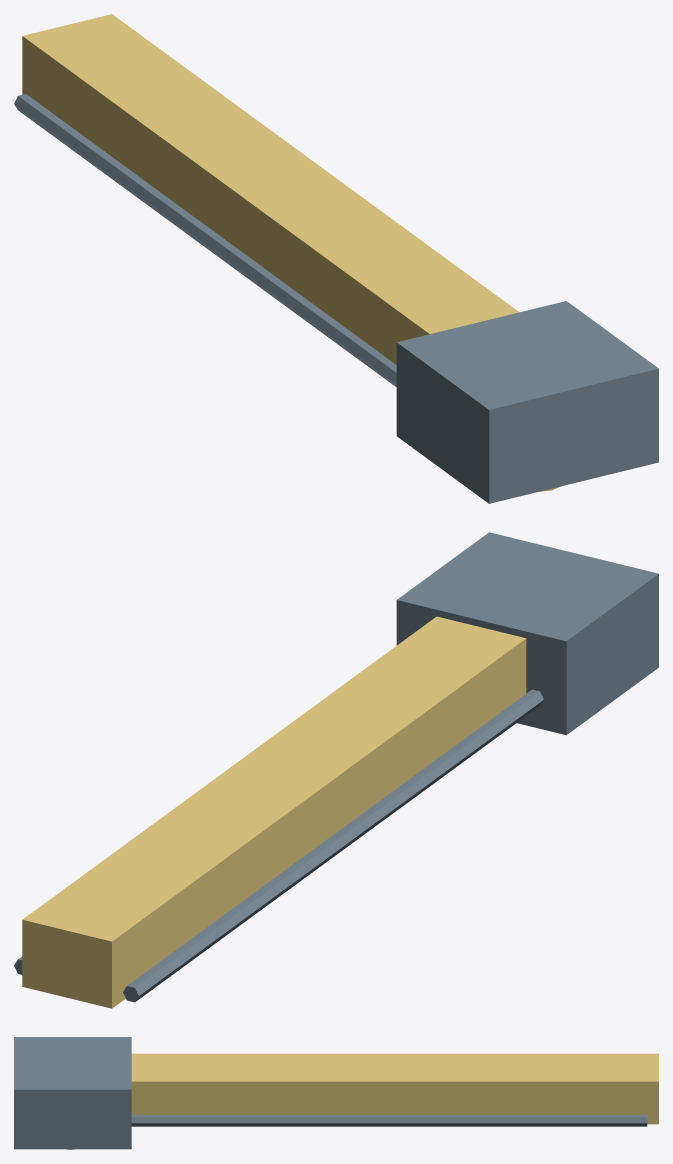
Rendered from grua_brazo.glb.
3 views of the same model, one above another, from view 1: azimuth 30°, elevation 25°; view 2: azimuth 150°, elevation 25°; view 3: azimuth 270°, elevation 25° (orthographic). The views are drawn at different scales.
Visible parts, largest first — view 1: grua_brazo; view 2: grua_brazo; view 3: grua_brazo.
Part boxes in pixels (bbox=[...]): grua_brazo: bbox=[14, 14, 658, 503]; grua_brazo: bbox=[14, 532, 658, 1008]; grua_brazo: bbox=[14, 1037, 658, 1149].
Bounding box in the file's own units: 0.53 × 0.35 × 2.74.
